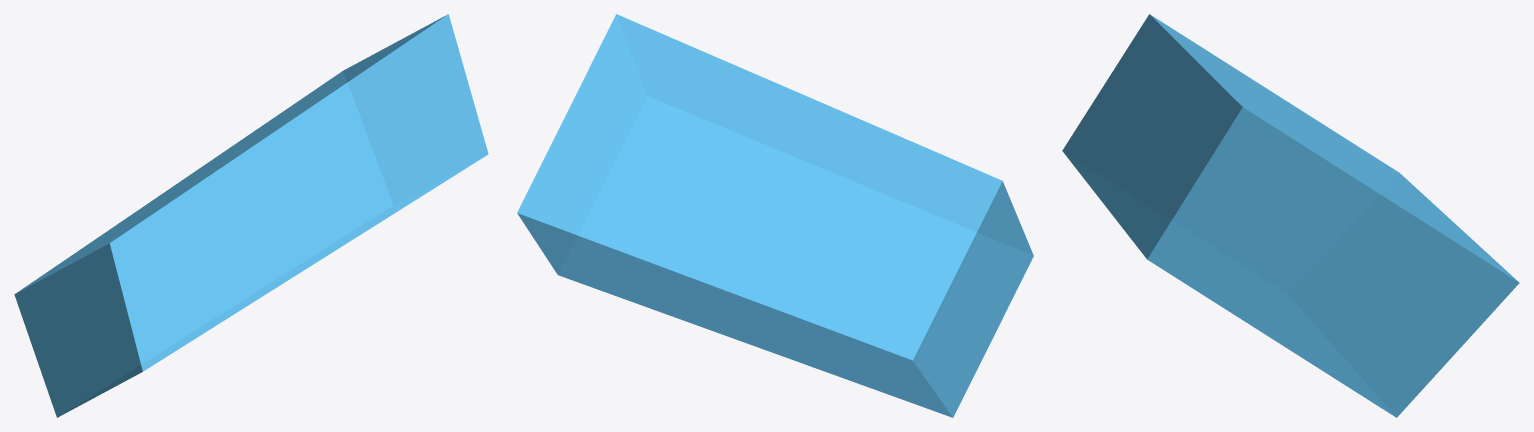
The model's file is Event_420094457_HErechit_36.fbx.
The picture shows the model from 3 angles, left to right: view 1: azimuth 30°, elevation 25°; view 2: azimuth 150°, elevation 25°; view 3: azimuth 270°, elevation 25°; orthographic projection. The views are drawn at different scales.
Parts seen in each view (by area): view 1: Model; view 2: Model; view 3: Model.
Part boxes in pixels (x1,y1,x2,y2): Model: (14, 14, 488, 417); Model: (517, 14, 1033, 417); Model: (1062, 14, 1519, 417).
Bounding box in the file's own units: 1.09 × 0.8994 × 0.8744.
